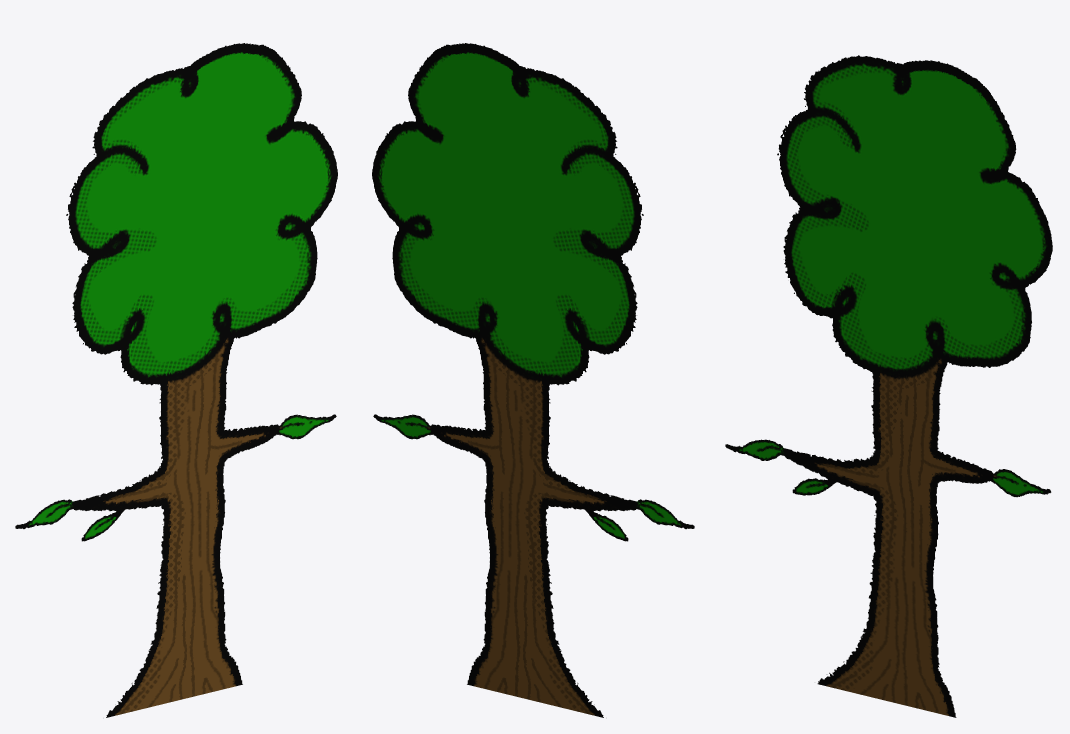
The model's file is Tree2.fbx.
3 renders of one model, left to right at view 1: azimuth 30°, elevation 25°; view 2: azimuth 150°, elevation 25°; view 3: azimuth 330°, elevation 25°, orthographic.
Parts seen in each view (by area): view 1: Tree2; view 2: Tree2; view 3: Tree2.
Part boxes in pixels (left/top/right/bottom): Tree2: left=15, top=43, right=337, bottom=717; Tree2: left=372, top=43, right=694, bottom=717; Tree2: left=725, top=55, right=1052, bottom=717.
Size of the model in its own units: 212 by 400 by 3.02e-05.
